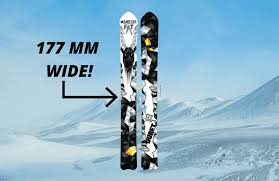skis: (116, 11, 159, 175)
